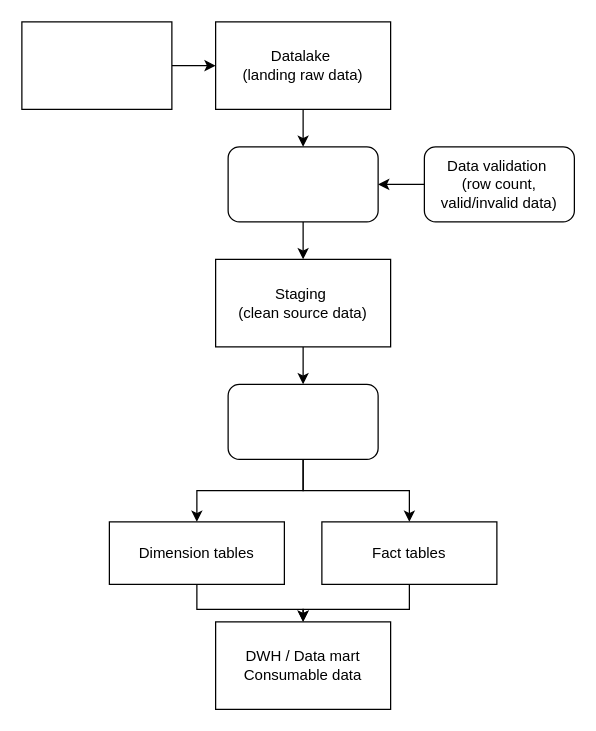
This 596x731 diagram has some shape labels left out. The shapes that lost their labels are listed below. From the top down, each one's centre as x and y in pixels, then its label:
At (x=96, y=65): "Source (generated csv formatted dummy data)".
At (x=302, y=184): "ETL ingestion dummy data into staging".
At (x=302, y=421): "Transformation/ Data modelling".
